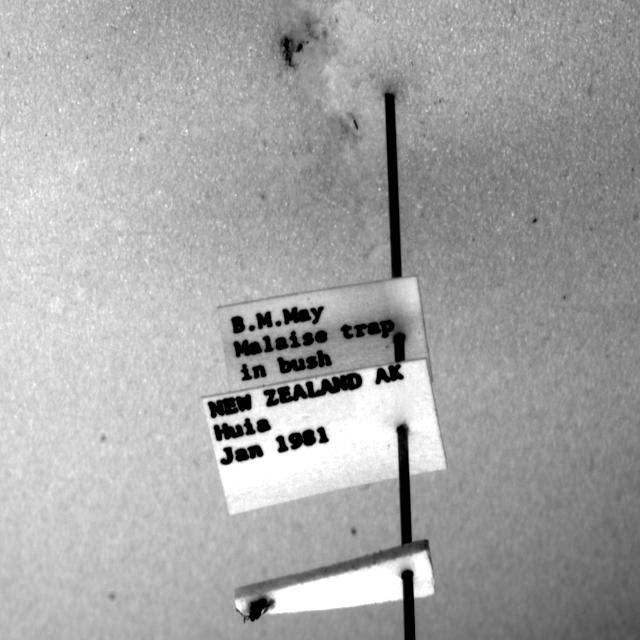typed_label: (202, 360, 446, 514), (219, 278, 429, 390)
